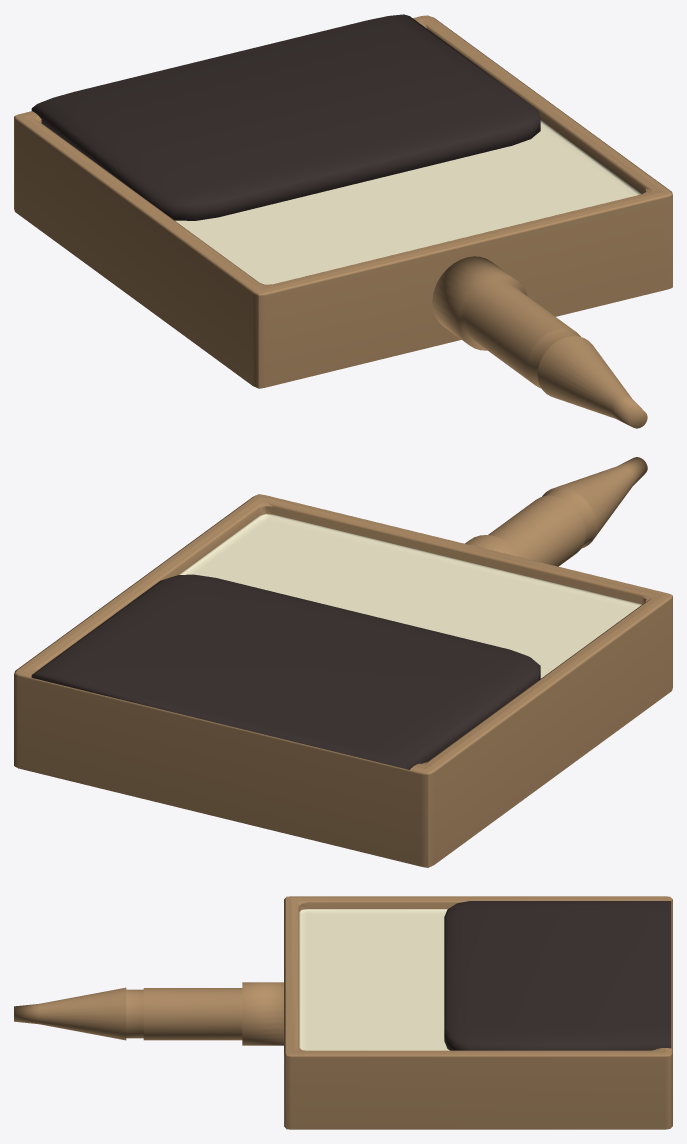
File: router_tier6.fbx
3 renders of one model, top to bottom at view 1: azimuth 30°, elevation 25°; view 2: azimuth 150°, elevation 25°; view 3: azimuth 270°, elevation 25°, orthographic. The views are drawn at different scales.
Parts seen in each view (by area): view 1: Cube, Cube.002, Sphere.002; view 2: Cube, Cube.002, Sphere.002; view 3: Cube, Cube.002, Sphere.002.
Part boxes in pixels (x1=…): Cube: x1=14, y1=15, x2=672, y2=388; Cube.002: x1=31, y1=14, x2=540, y2=220; Sphere.002: x1=432, y1=256, x2=647, y2=428; Cube: x1=14, y1=494, x2=672, y2=867; Cube.002: x1=31, y1=574, x2=540, y2=769; Sphere.002: x1=465, y1=457, x2=647, y2=566; Cube: x1=284, y1=896, x2=672, y2=1129; Cube.002: x1=444, y1=901, x2=671, y2=1050; Sphere.002: x1=14, y1=982, x2=283, y2=1045.
Bounding box in the file's own units: 0.3911 × 0.0926 × 0.6774.
